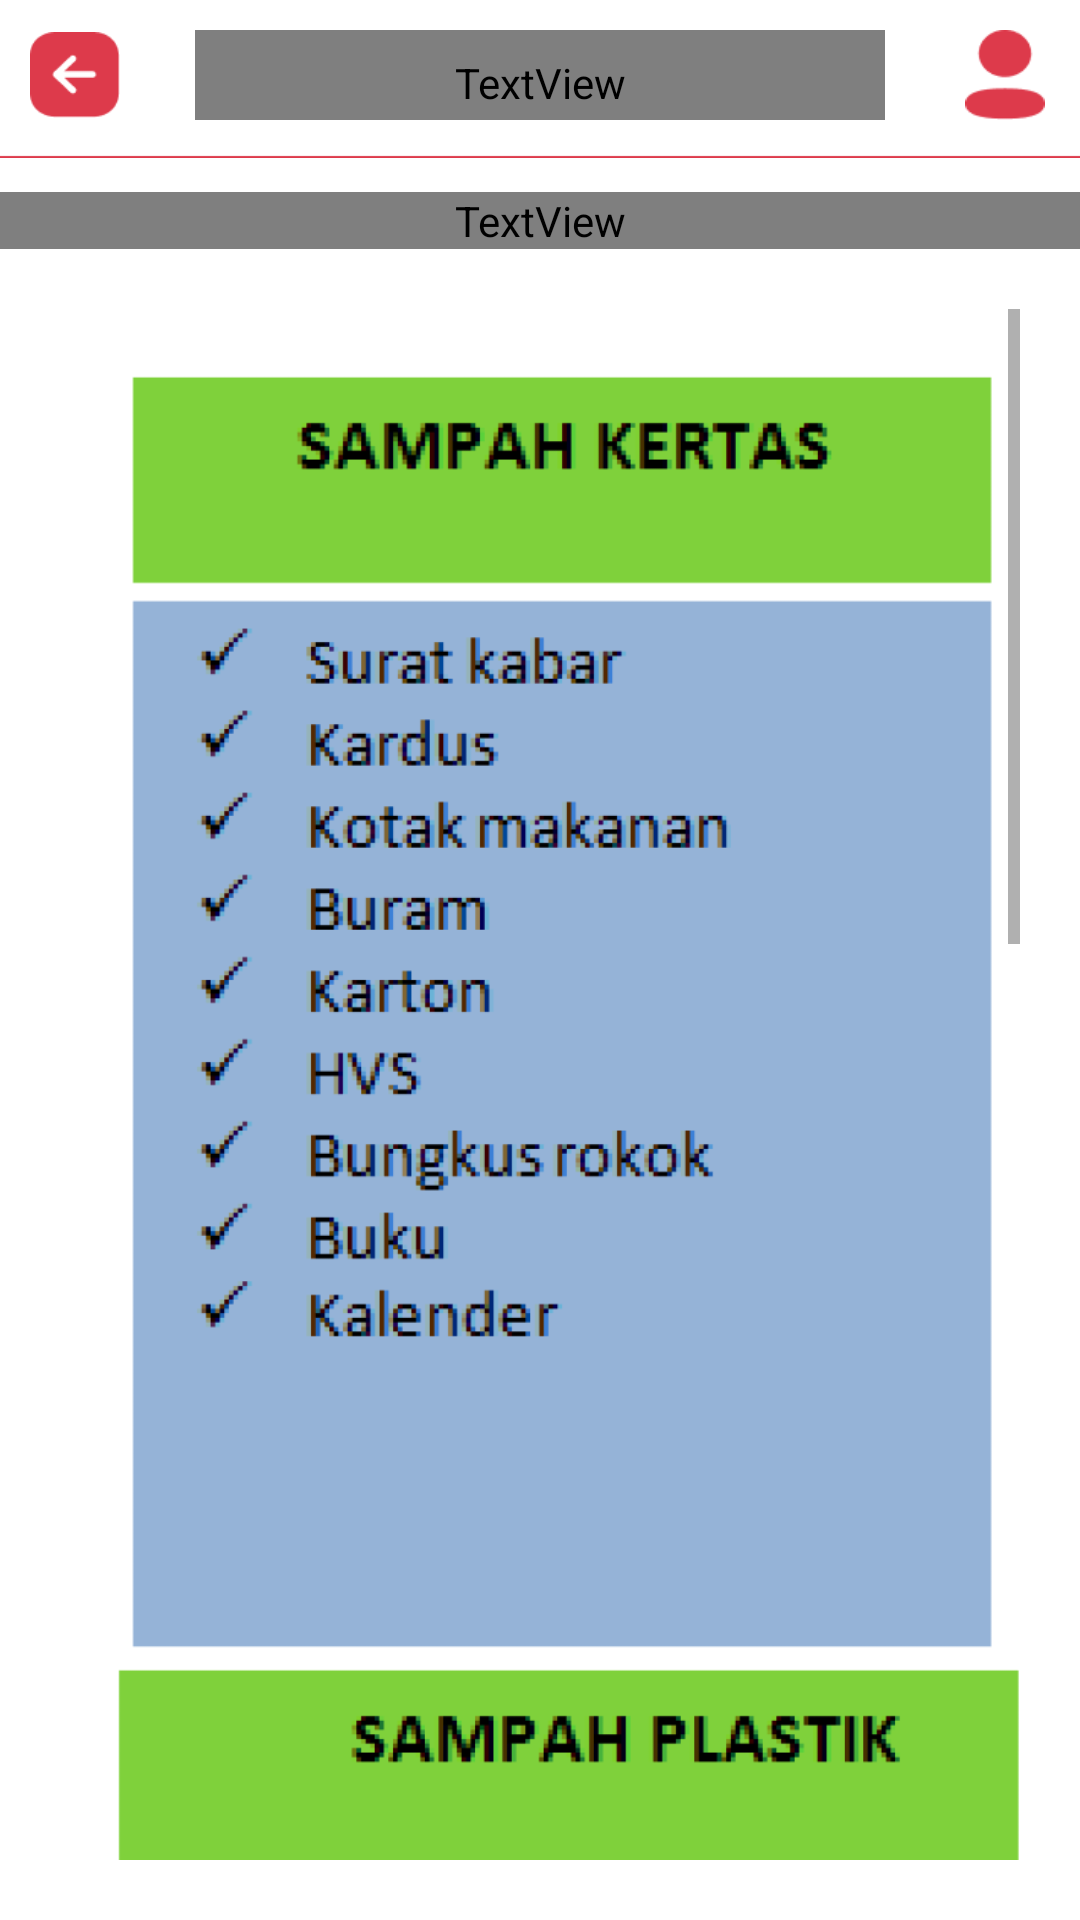

Point at icon controls on the screen. Image size 1080x1920, points as [x,y].
iconback: [74,75]
iconprofile: [1005,75]
